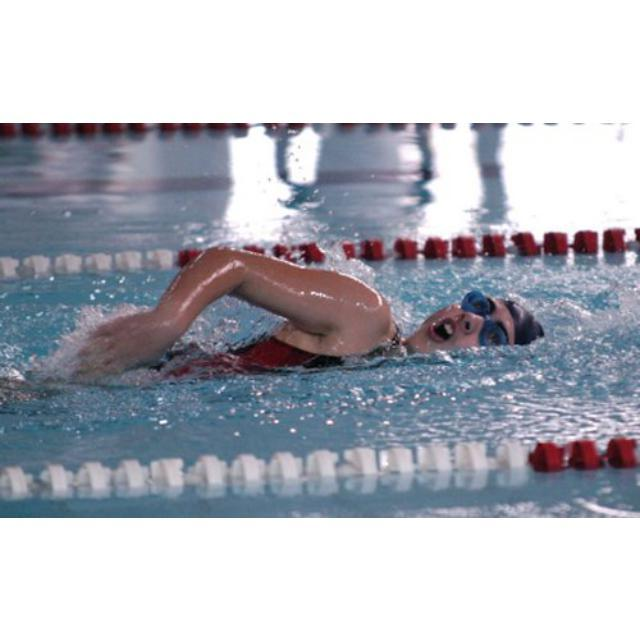human: (80, 244, 544, 387)
